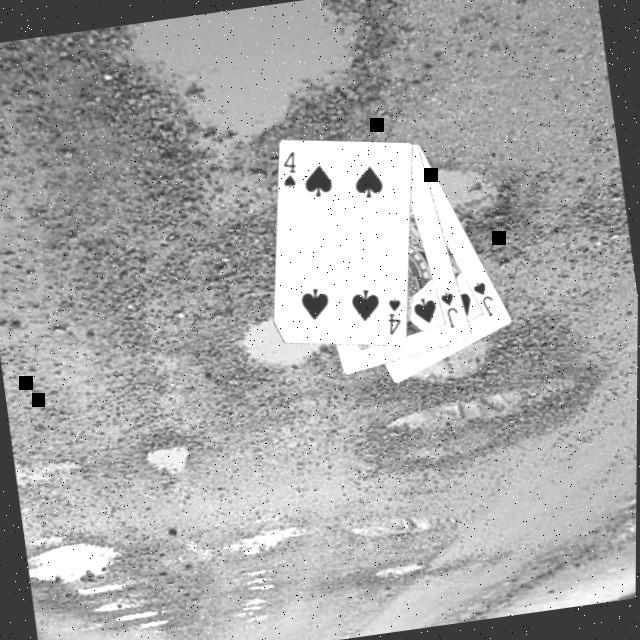4S: (383, 294, 411, 339), (277, 149, 303, 193)
JS: (471, 277, 501, 322), (439, 288, 465, 333)
